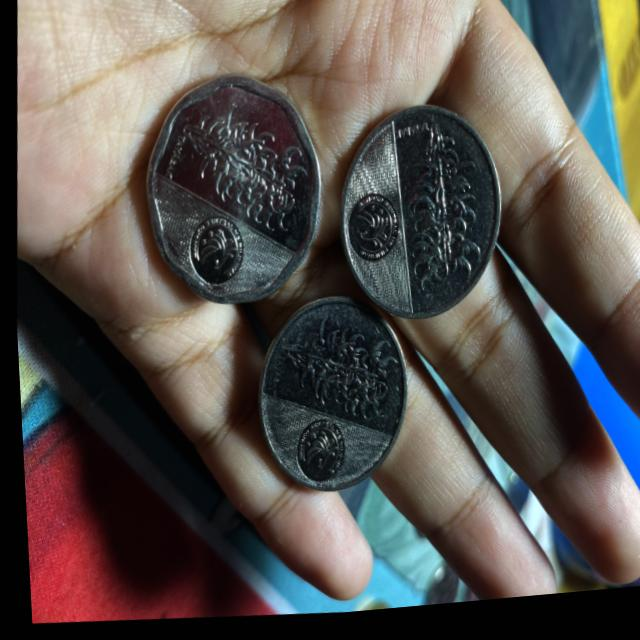5_New_Back: (181, 100, 304, 228), (275, 317, 397, 432), (400, 137, 484, 300)
